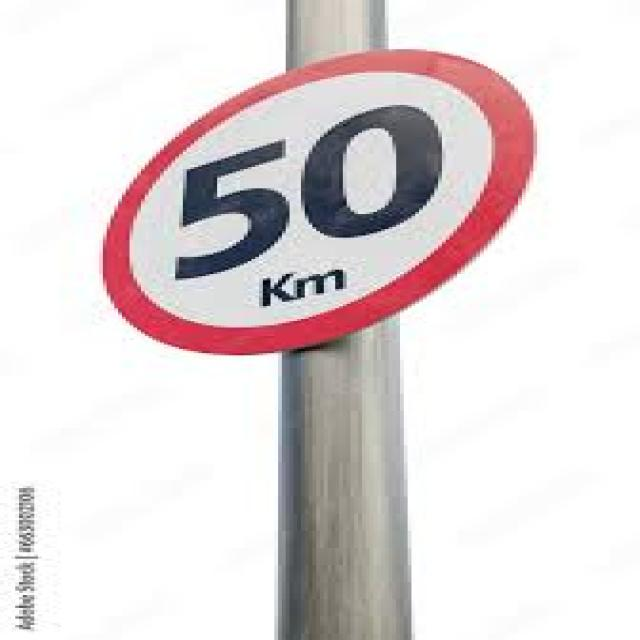Speed limit 50: (96, 46, 542, 358)
